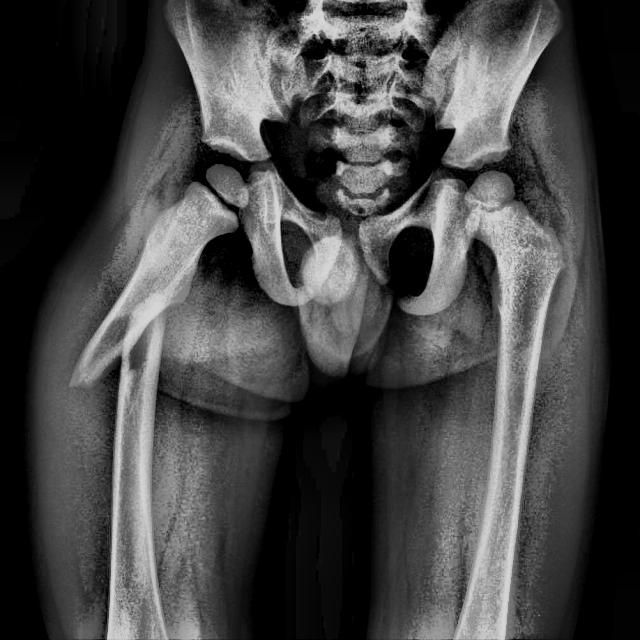messed_up_angle: (65, 298, 171, 392)
